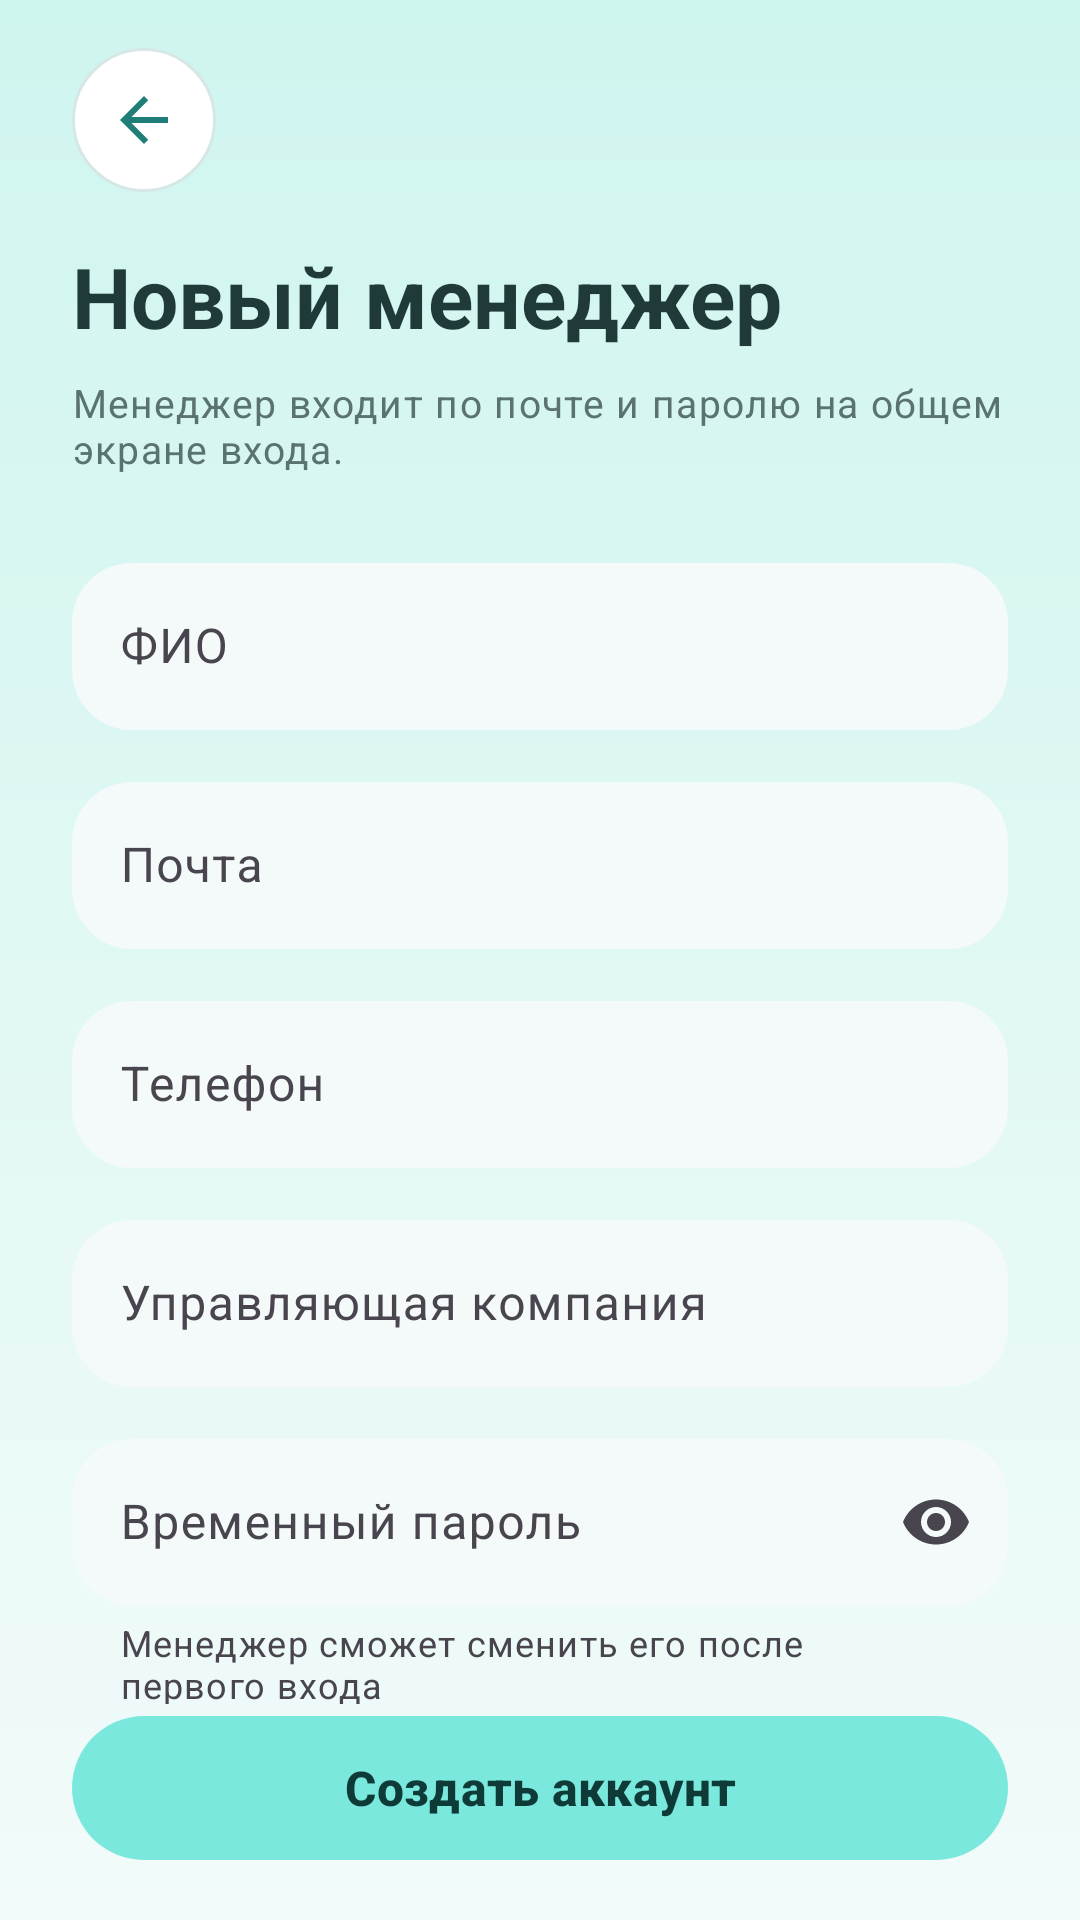

Icons on this 1080×1920 Android screen, each with its box as (x1=x1, y1=y1, x2=x2, y2=y2):
Назад: (x1=75, y1=51, x2=213, y2=189)
